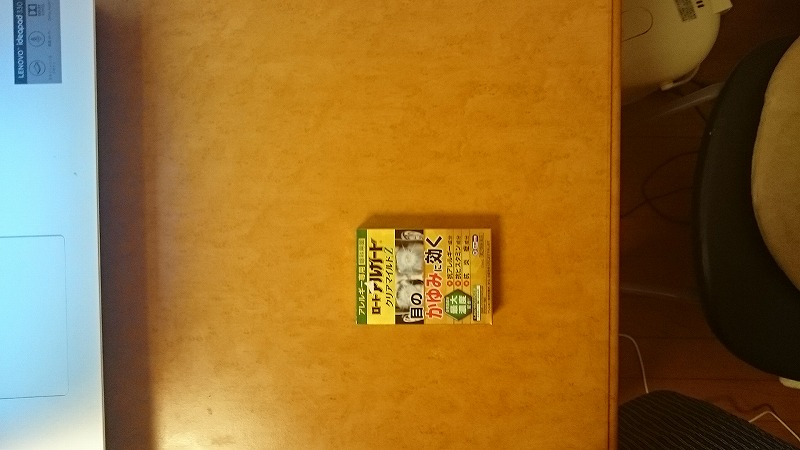C: (350, 221, 503, 334)
